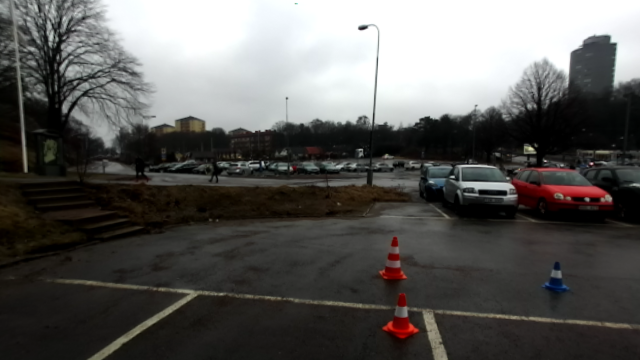blue: (541, 259, 569, 291)
orange: (382, 290, 419, 340)
orange2: (376, 235, 409, 280)
